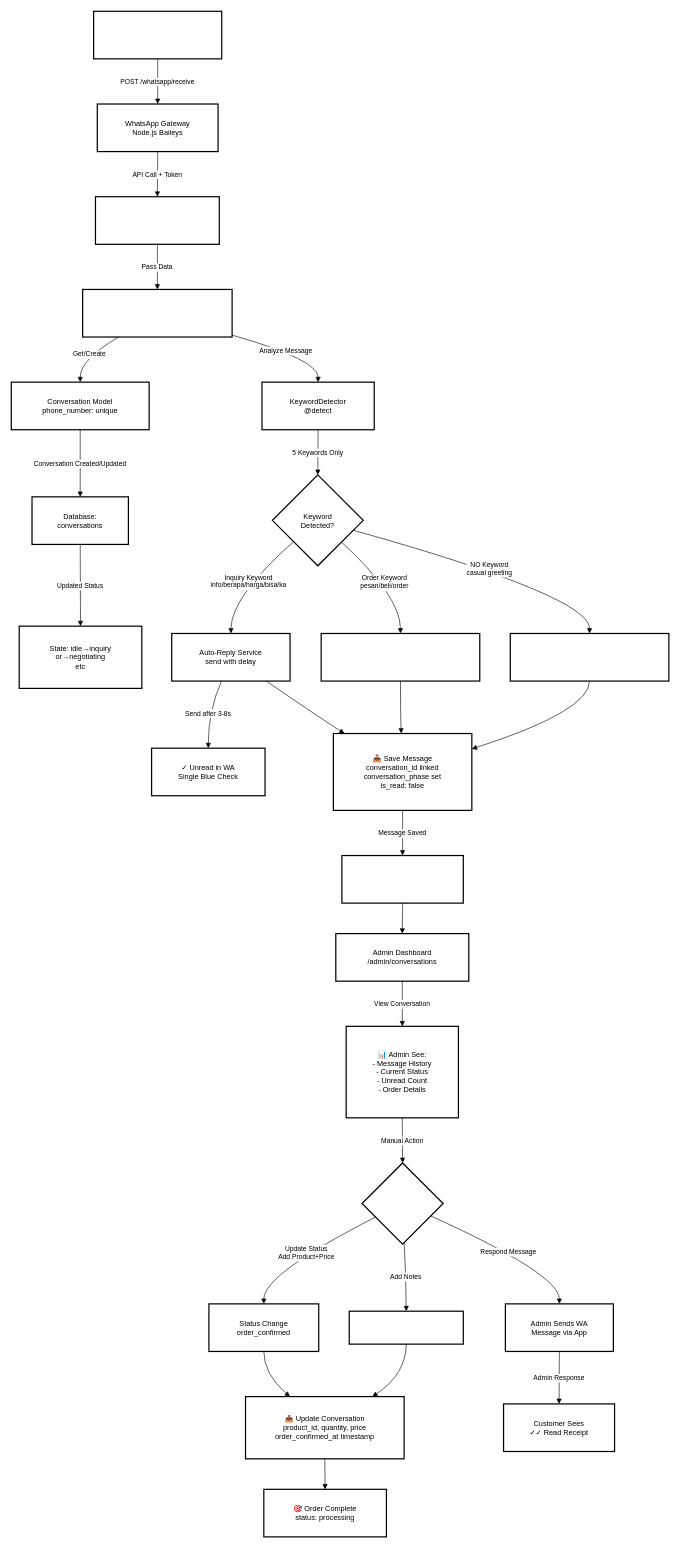
This 680x1548 diagram has some shape labels left out. Here are the shapes that lost their labels. From the top down, the centre of each, then its label:
At (x=157, y=34): "📱 Customer Message WhatsApp".
At (x=157, y=220): "WhatsAppController @receive".
At (x=157, y=313): "WhatsAppMessageHandler @handle".
At (x=400, y=657): "FLAG Admin Response requires_admin_response=true".
At (x=589, y=657): "FLAG Admin Decision requires_admin_response=true".
At (x=402, y=879): "Database: incoming_messages".
At (x=402, y=1203): "Admin Decides".
At (x=406, y=1327): "Save Admin Notes".
